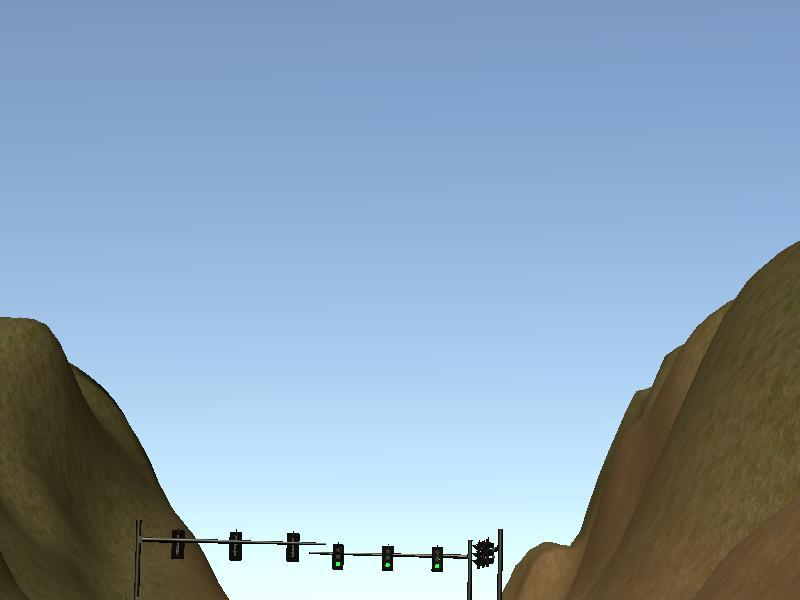Green: (332, 543, 344, 571), (381, 545, 393, 572), (432, 545, 442, 572)
